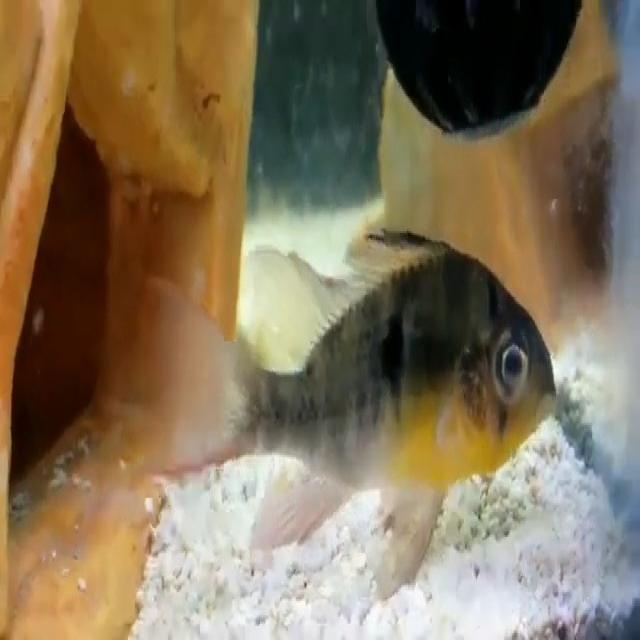fish: (168, 216, 568, 600)
